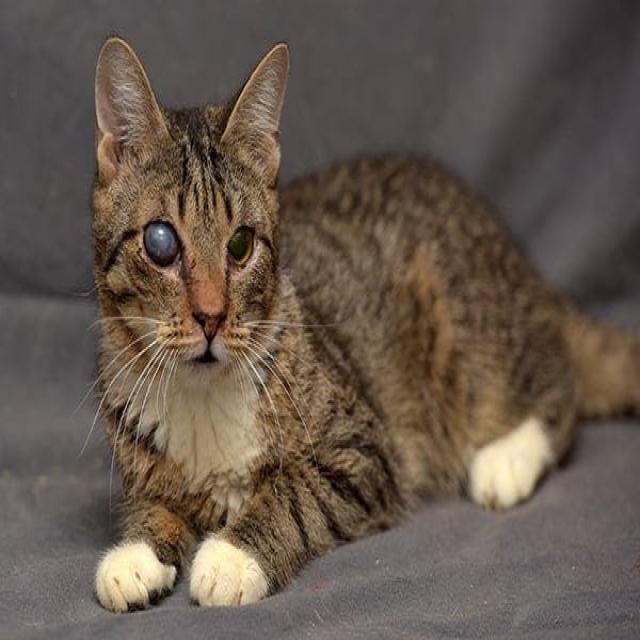cat-eye: (140, 215, 186, 266)
cat-eye-normal: (220, 219, 262, 272)
